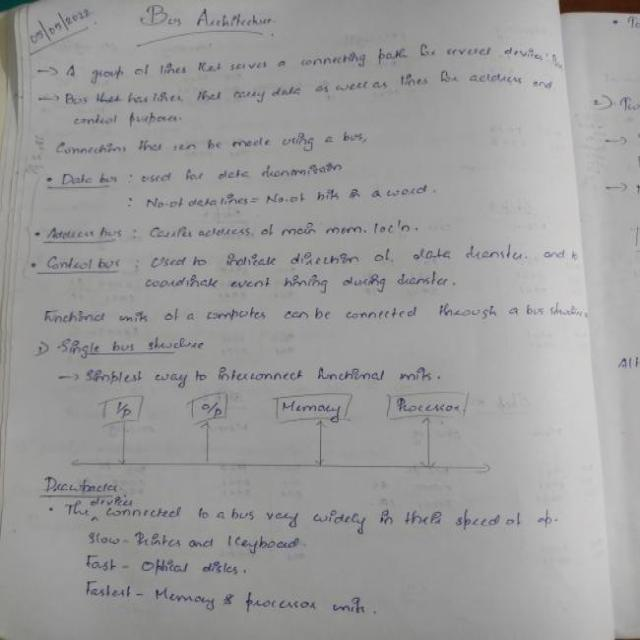Figure Detection - v3 Dataset Version2: (52, 385, 497, 479)
